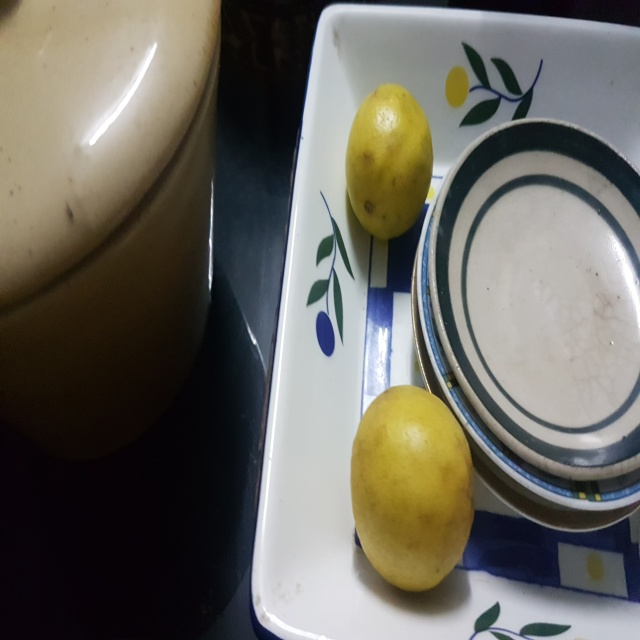lemon: (345, 380, 483, 594), (343, 77, 435, 238)
